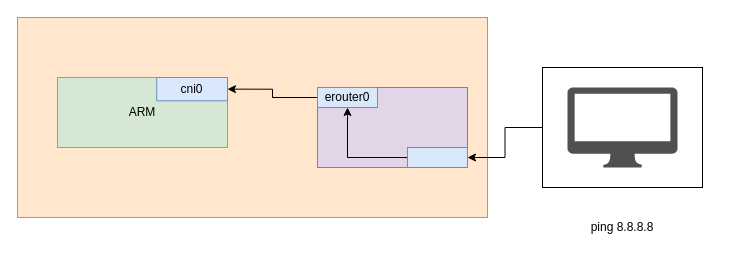
Image size: 735x255. Some labels were removed from this diagram. Each missing label, with the box of its shape:
ATOM: (316, 86, 468, 168)
brlan0: (406, 146, 468, 168)
